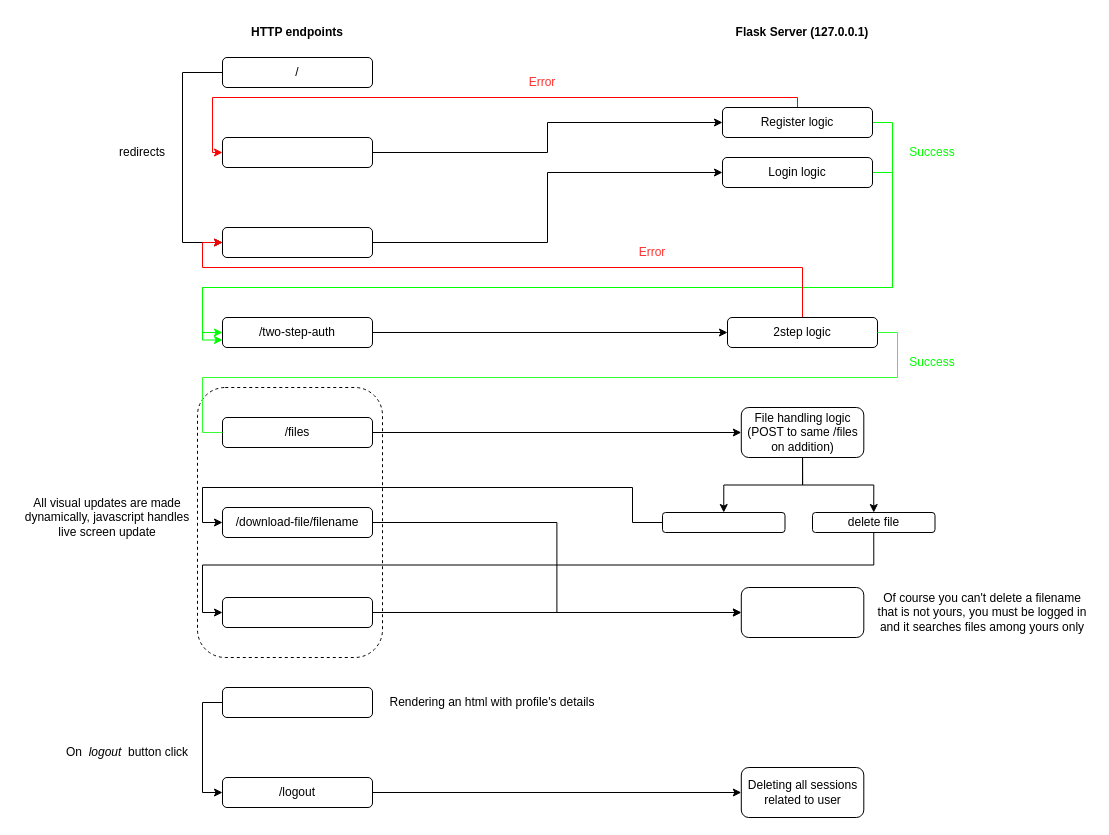
Some shapes in this 1109 by 835 pixel diagram are drawn without their labels. Each missing label, with the centre of its shape:
/delete-file/filename: the point at 297,612
/login: the point at 297,242
/profile: the point at 297,702
/register: the point at 297,152
download a file: the point at 723,522
Handling Download / Delete files: the point at 802,612
